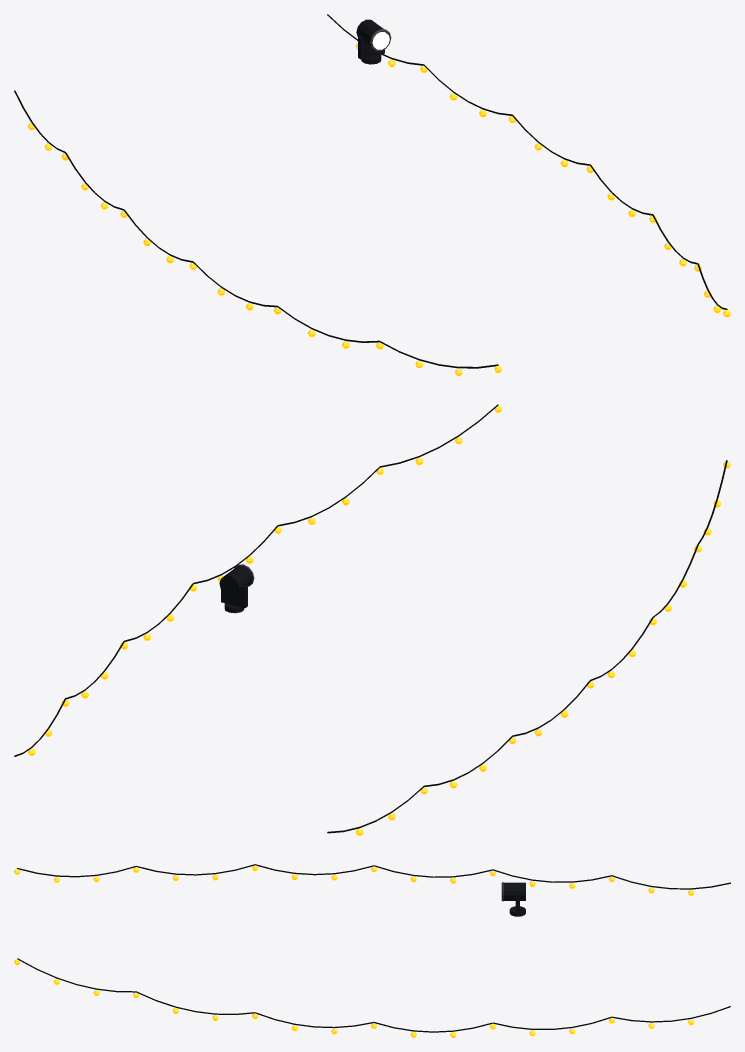
File: tb_upg_deck_lights.glb
The picture shows the model from 3 angles, top to bottom: view 1: azimuth 30°, elevation 25°; view 2: azimuth 150°, elevation 25°; view 3: azimuth 270°, elevation 25°; orthographic projection. The views are drawn at different scales.
Visible parts, largest first — view 1: deck_lights_strings, deck_spotlight; view 2: deck_lights_strings, deck_spotlight; view 3: deck_lights_strings, deck_spotlight.
Part boxes in pixels (x1,y1,x2,y2): deck_lights_strings: (14, 14, 730, 375); deck_spotlight: (356, 19, 391, 64); deck_lights_strings: (14, 404, 730, 835); deck_spotlight: (219, 564, 254, 613); deck_lights_strings: (14, 864, 730, 1037); deck_spotlight: (501, 882, 525, 916).
Size of the model in its own units: 3.65 by 1.13 by 6.96.
